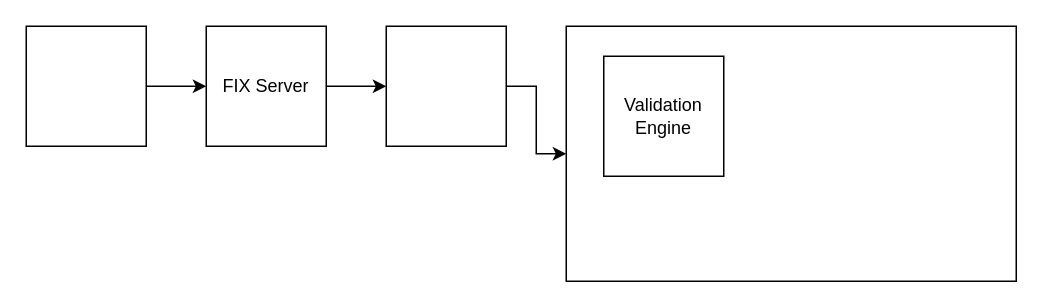
Some shapes in this 1043 by 308 pixel diagram are drawn without their labels. Here are the shapes that lost their labels. From the top down, the centre of each, then its label:
the point at 85,85: Client
the point at 445,85: Router
